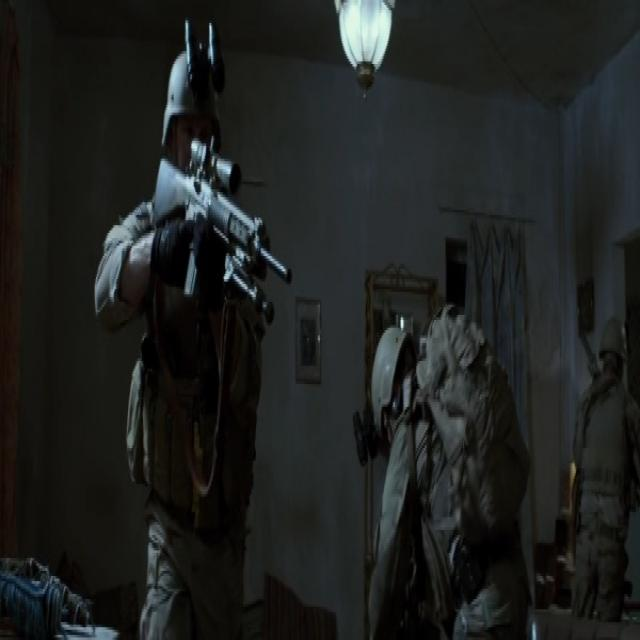rifle: (154, 131, 298, 333)
